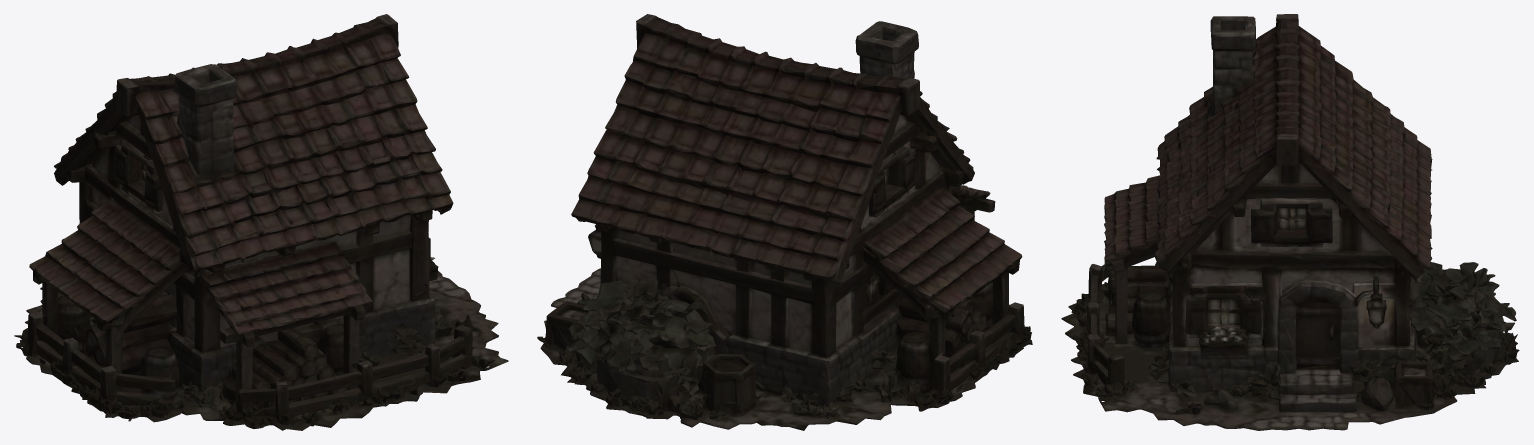
File: war_house_gutted_01.glb
The picture shows the model from 3 angles, left to right: view 1: azimuth 30°, elevation 25°; view 2: azimuth 150°, elevation 25°; view 3: azimuth 270°, elevation 25°; orthographic projection. The views are drawn at different scales.
Visible parts, largest first — view 1: geometry_0; view 2: geometry_0; view 3: geometry_0.
Boxes of the visible parts, box(x1,y1,x2,y2) form: geometry_0: box(14, 14, 508, 430); geometry_0: box(537, 14, 1032, 430); geometry_0: box(1061, 14, 1519, 430).
Size of the model in its own units: 0.9637 by 0.6816 by 1.
Materials: 1 (1 with a texture image).
